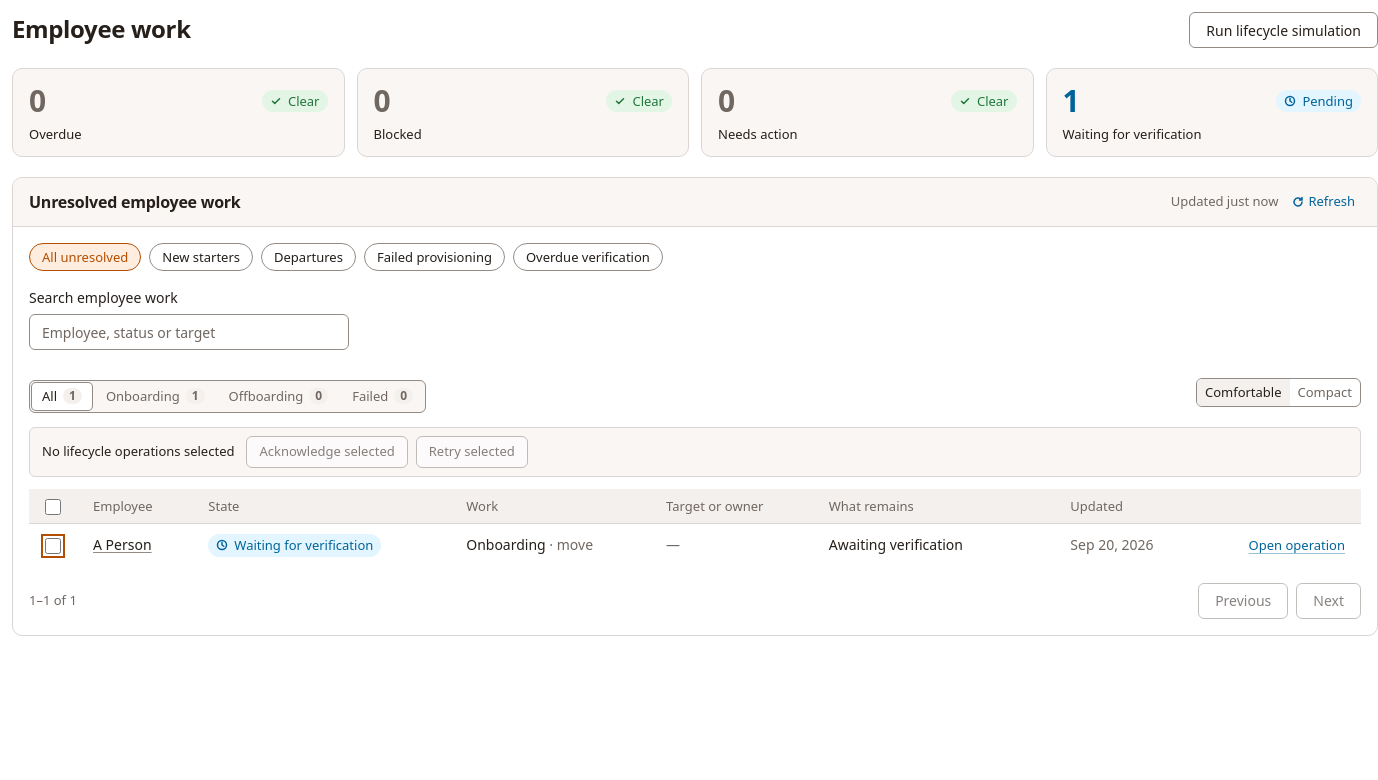
Scenario: EmployeeWorkPage › supports keyboard selection and a bulk acknowledgement for lifecycle work
The width and height of the screenshot is (1378, 780).
Type keys " "
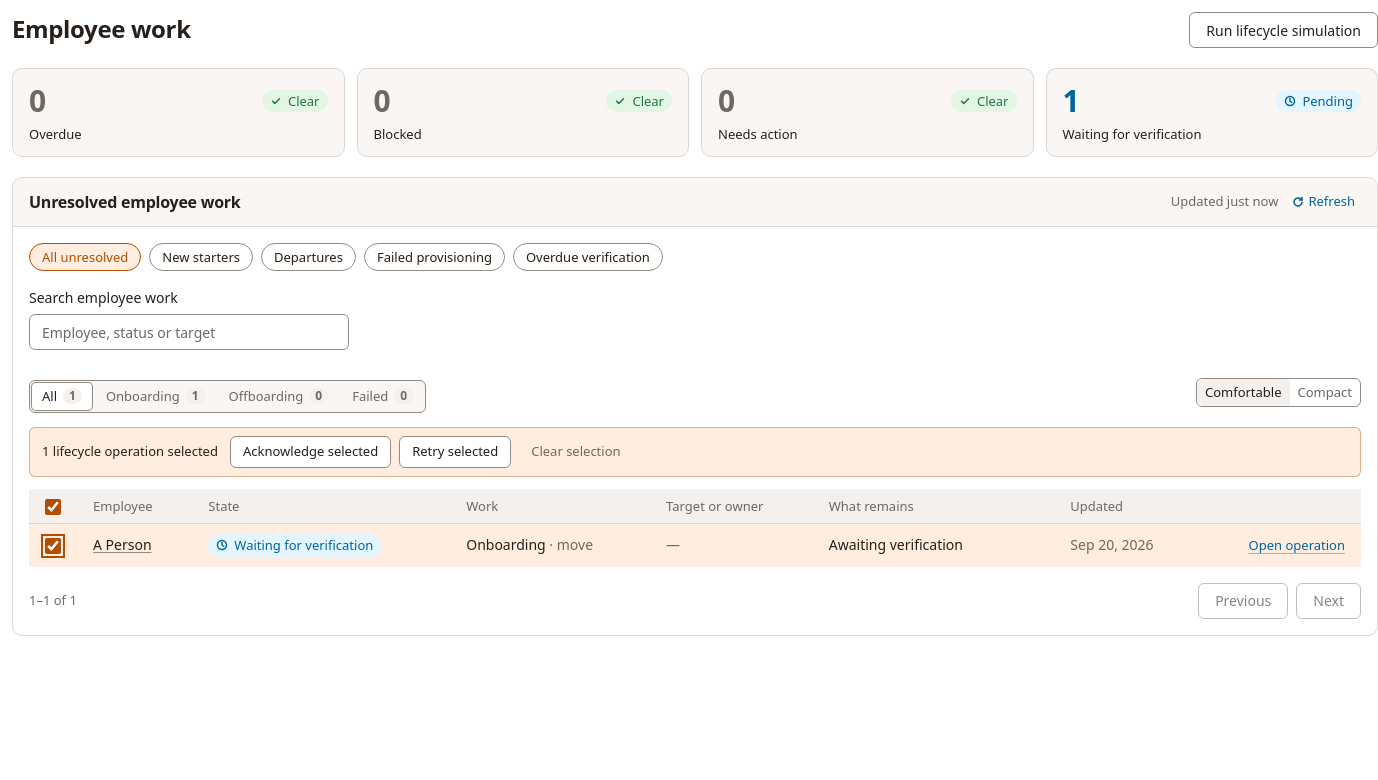
Result: the checkbox named "Select A Person lifecycle operation" is checked at [45, 538, 61, 554]
Result: the text "1 lifecycle operation selected" is shown at [42, 442, 218, 461]
Result: the button "Acknowledge selected" is enabled
Click the button "Acknowledge selected" at (311, 452), box [230, 436, 391, 468]
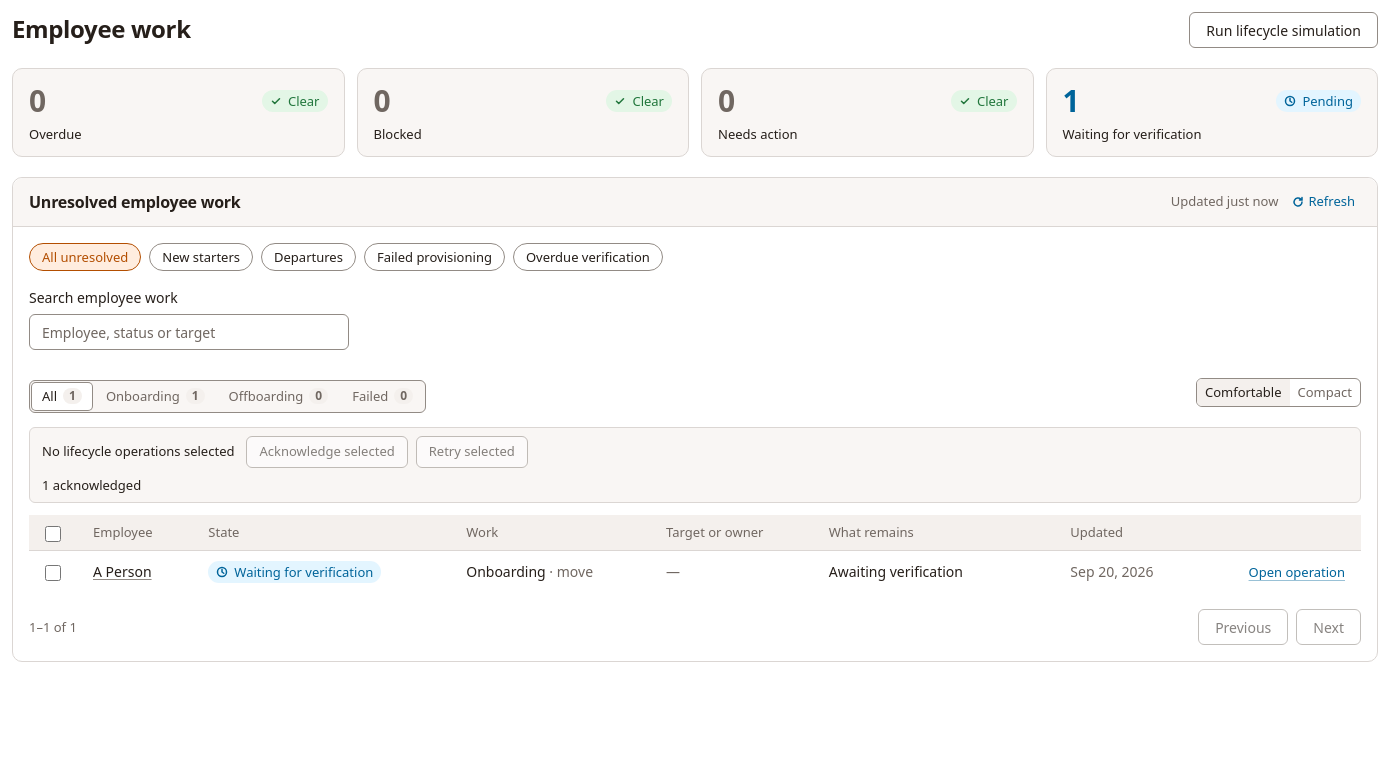
Result: the text "1 acknowledged" is shown at [42, 476, 141, 494]
